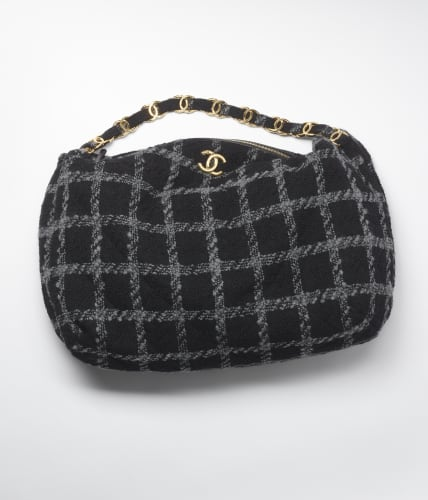channel: (41, 109, 410, 369), (190, 137, 236, 186)
